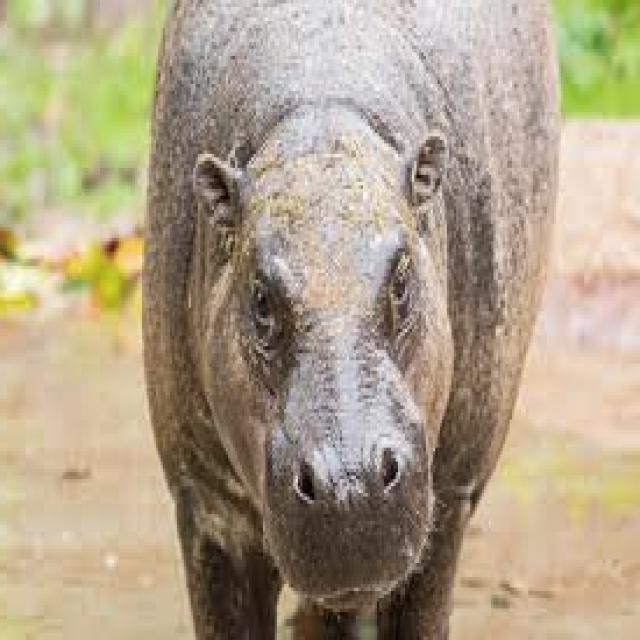hippopotamus: (144, 0, 559, 637)
